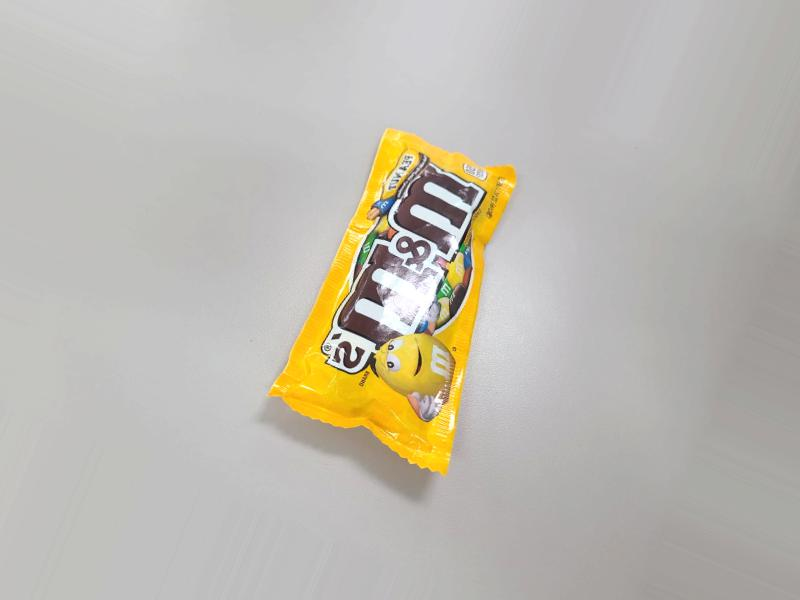m&m: (292, 132, 534, 456)
